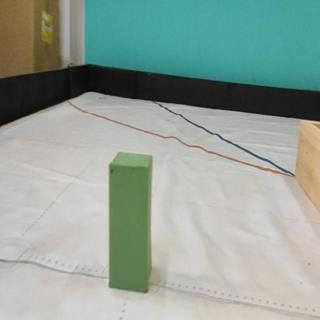greenbox: (109, 152, 153, 293)
